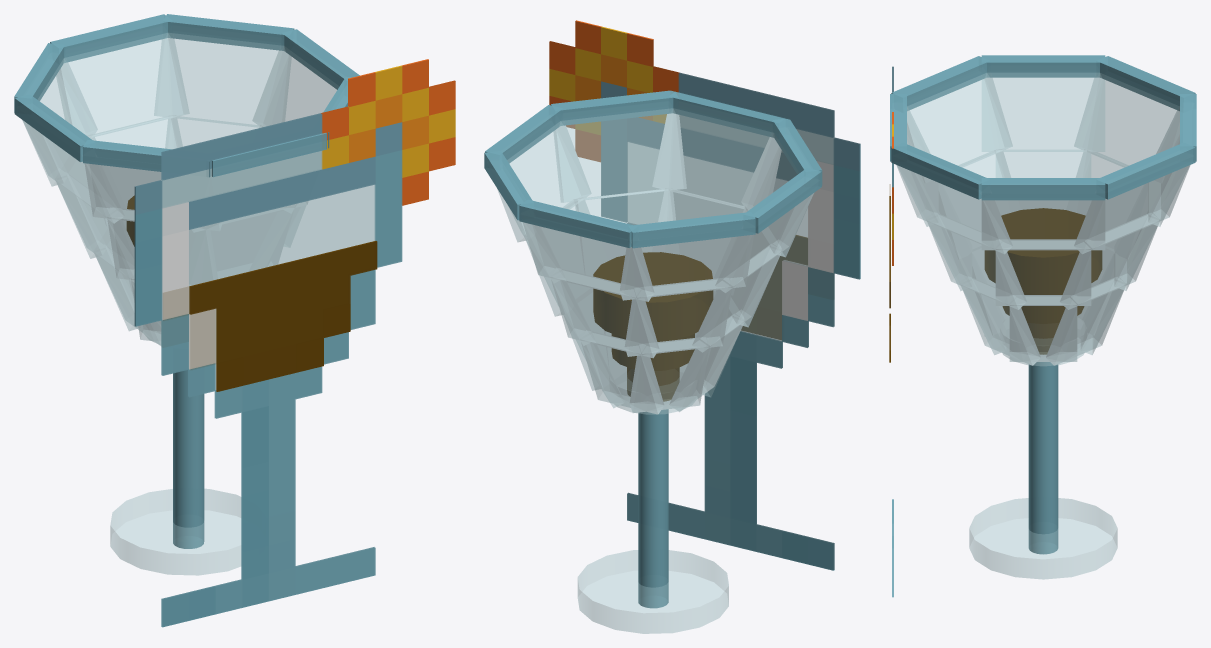
File: CMU3DDrinkCoffeeLiqueurGlass.glb
3 renders of one model, left to right at view 1: azimuth 30°, elevation 25°; view 2: azimuth 150°, elevation 25°; view 3: azimuth 270°, elevation 25°, orthographic. The views are drawn at different scales.
Visible parts, largest first — view 1: base original source artwork, fill original source artwork, hollow wall tier 3 facet 2, hollow wall tier 3 facet 3, circular glass foot, glass stem, hollow wall tier 3 facet 1, hollow wall tier 3 facet 4, hollow wall tier 2 facet 5, hollow wall tier 3 facet 5, open rim facet 2, hollow wall tier 2 facet 3 (+13 smaller); view 2: base original source artwork, hollow wall tier 3 facet 8, circular glass foot, hollow wall tier 3 facet 7, hollow wall tier 3 facet 4, hollow wall tier 2 facet 4, liquid volume tier 3, glass stem, hollow wall tier 3 facet 3, hollow wall tier 2 facet 3, hollow wall tier 3 facet 1, hollow wall tier 1 facet 4 (+26 smaller); view 3: hollow wall tier 3 facet 5, circular glass foot, hollow wall tier 3 facet 4, hollow wall tier 3 facet 6, hollow wall tier 3 facet 1, hollow wall tier 2 facet 1, glass stem, liquid volume tier 3, hollow wall tier 2 facet 8, hollow wall tier 2 facet 2, hollow wall tier 3 facet 2, hollow wall tier 3 facet 8 (+24 smaller).
Boxes of the visible parts, left/top/right/bottom form: base original source artwork: left=134, top=59, right=455, bottom=627; fill original source artwork: left=163, top=241, right=377, bottom=391; hollow wall tier 3 facet 2: left=154, top=33, right=291, bottom=127; hollow wall tier 3 facet 3: left=56, top=33, right=189, bottom=136; circular glass foot: left=110, top=488, right=241, bottom=575; glass stem: left=173, top=370, right=204, bottom=548; hollow wall tier 3 facet 1: left=252, top=46, right=338, bottom=126; hollow wall tier 3 facet 4: left=22, top=59, right=97, bottom=186; hollow wall tier 2 facet 5: left=55, top=172, right=134, bottom=282; hollow wall tier 3 facet 5: left=23, top=121, right=124, bottom=223; open rim facet 2: left=163, top=14, right=294, bottom=50; hollow wall tier 2 facet 3: left=89, top=115, right=182, bottom=208; base original source artwork: left=549, top=20, right=860, bottom=570; hollow wall tier 3 facet 8: left=553, top=108, right=686, bottom=202; circular glass foot: left=577, top=550, right=728, bottom=633; hollow wall tier 3 facet 7: left=652, top=108, right=781, bottom=209; hollow wall tier 3 facet 4: left=620, top=234, right=753, bottom=300; hollow wall tier 2 facet 4: left=625, top=277, right=731, bottom=356; liquid volume tier 3: left=593, top=252, right=713, bottom=340; glass stem: left=638, top=409, right=668, bottom=608; hollow wall tier 3 facet 3: left=523, top=222, right=654, bottom=301; hollow wall tier 2 facet 3: left=550, top=268, right=658, bottom=357; hollow wall tier 3 facet 1: left=497, top=121, right=591, bottom=242; hollow wall tier 1 facet 4: left=630, top=337, right=708, bottom=412; hollow wall tier 3 facet 5: left=982, top=73, right=1104, bottom=151; circular glass foot: left=969, top=498, right=1117, bottom=579; hollow wall tier 3 facet 4: left=1074, top=73, right=1179, bottom=167; hollow wall tier 3 facet 6: left=907, top=73, right=1012, bottom=167; hollow wall tier 3 facet 1: left=981, top=200, right=1105, bottom=250; hollow wall tier 2 facet 1: left=995, top=239, right=1091, bottom=305; glass stem: left=1028, top=362, right=1058, bottom=554; liquid volume tier 3: left=984, top=208, right=1102, bottom=294; hollow wall tier 2 facet 8: left=927, top=212, right=1026, bottom=309; hollow wall tier 2 facet 2: left=1060, top=212, right=1159, bottom=309; hollow wall tier 3 facet 2: left=1074, top=165, right=1190, bottom=253; hollow wall tier 3 facet 8: left=896, top=165, right=1012, bottom=253.
Size of what is drawn, in the model's own units: 0.384 by 0.5625 by 0.3315.
5 materials, 2 textured.
